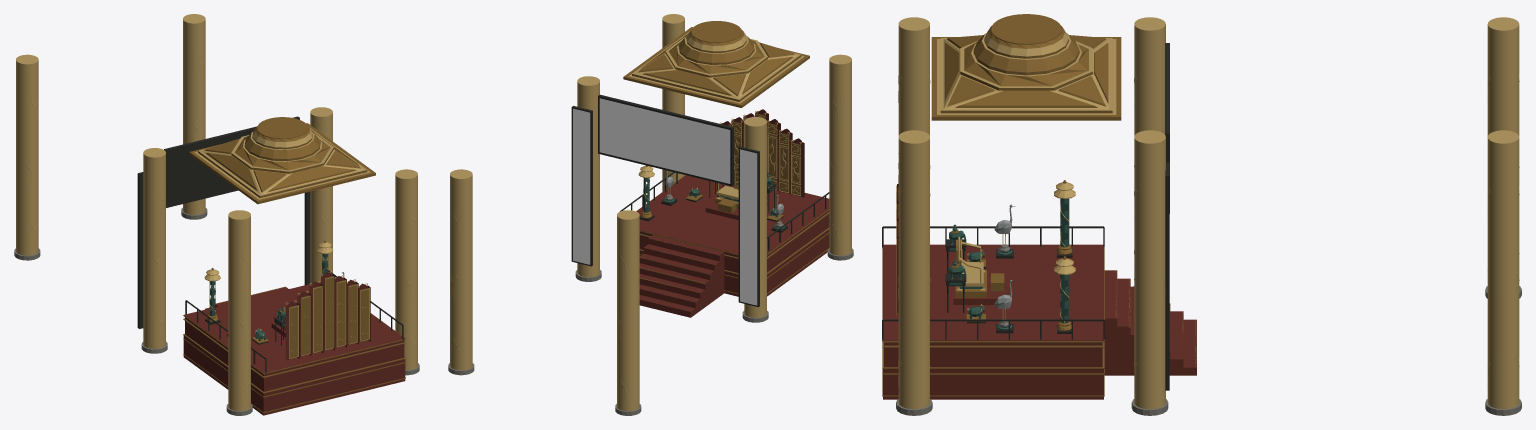
File: taihe-furniture-0bfa52b758cb.glb
3 renders of one model, left to right at view 1: azimuth 30°, elevation 25°; view 2: azimuth 150°, elevation 25°; view 3: azimuth 270°, elevation 25°, orthographic. The views are drawn at different scales.
Parts seen in each view (by area): view 1: merged_taihe_gold, merged_taihe_lacquer, merged_taihe_dark_gold, merged_taihe_dark_wood, merged_taihe_stone, throne_blue_waist; view 2: merged_taihe_gold, merged_taihe_lacquer, merged_taihe_glyph_atlas, merged_taihe_dark_gold, merged_taihe_dark_wood, merged_taihe_stone, throne_blue_waist; view 3: merged_taihe_gold, merged_taihe_lacquer, merged_taihe_dark_gold, merged_taihe_dark_wood, throne_blue_waist, merged_taihe_stone.
Part boxes in pixels (bbox=[...]): merged_taihe_gold: bbox=[16, 14, 417, 410]; merged_taihe_lacquer: bbox=[183, 272, 405, 415]; merged_taihe_dark_gold: bbox=[183, 117, 405, 413]; merged_taihe_dark_wood: bbox=[137, 116, 403, 373]; merged_taihe_stone: bbox=[14, 208, 419, 415]; throne_blue_waist: bbox=[209, 254, 328, 340]; merged_taihe_gold: bbox=[450, 14, 851, 410]; merged_taihe_lacquer: bbox=[636, 109, 829, 317]; merged_taihe_glyph_atlas: bbox=[573, 98, 757, 305]; merged_taihe_dark_gold: bbox=[623, 21, 829, 310]; merged_taihe_dark_wood: bbox=[571, 94, 829, 307]; merged_taihe_stone: bbox=[448, 194, 853, 415]; throne_blue_waist: bbox=[643, 173, 785, 229]; merged_taihe_gold: bbox=[896, 17, 1519, 409]; merged_taihe_lacquer: bbox=[883, 184, 1196, 399]; merged_taihe_dark_gold: bbox=[882, 14, 1196, 396]; merged_taihe_dark_wood: bbox=[882, 43, 1169, 390]; throne_blue_waist: bbox=[949, 198, 1069, 330]; merged_taihe_stone: bbox=[896, 244, 1521, 415].
Bounding box in the file's own units: 9.63 × 11.27 × 20.25.
